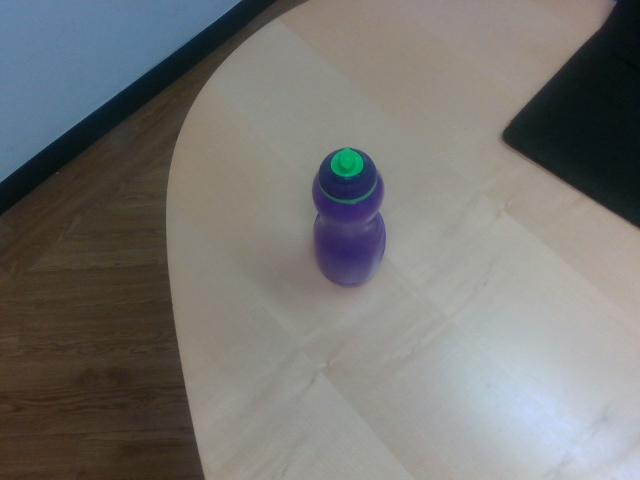bottle: (313, 148, 386, 288)
